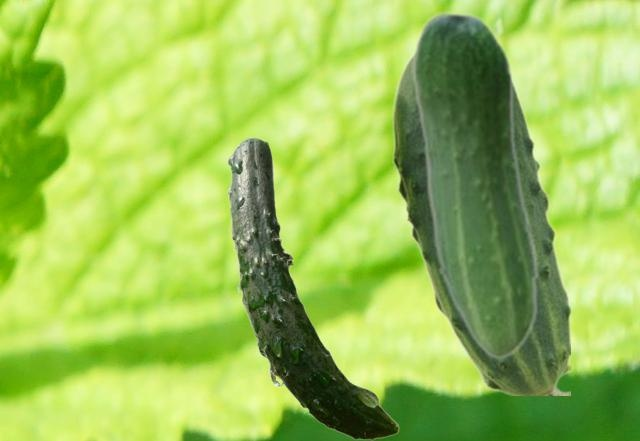cucumber: (392, 54, 569, 394), (226, 137, 398, 439), (411, 9, 539, 359)
